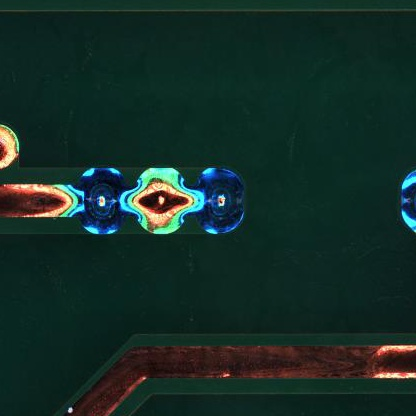spot: (73, 164, 127, 236), (195, 167, 245, 237)
